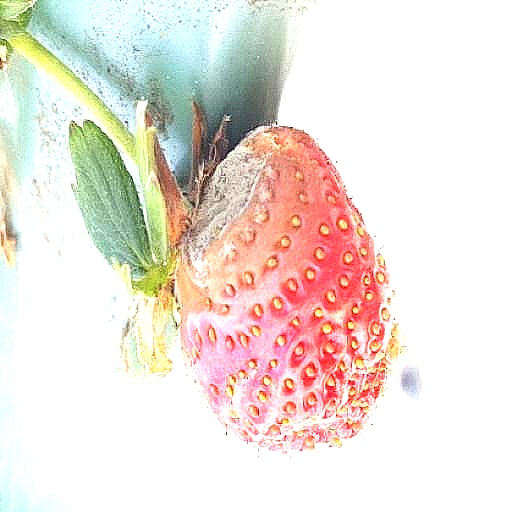Gray Mold: (173, 115, 286, 291)
